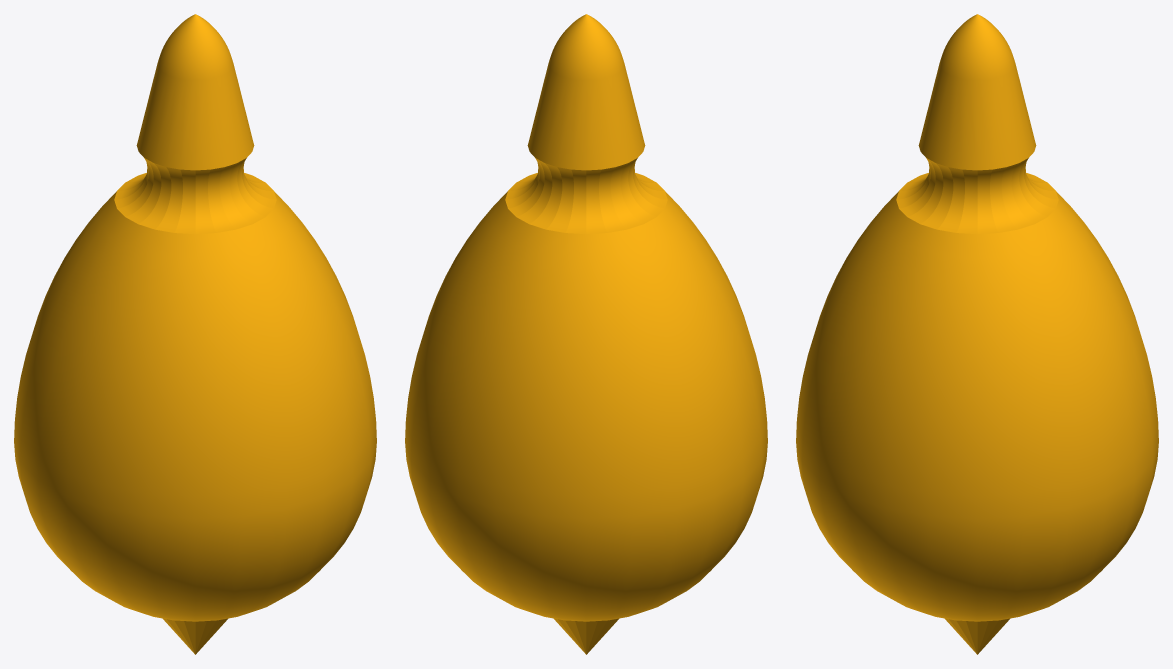
File: building-3a.dae
3 renders of one model, left to right at view 1: azimuth 30°, elevation 25°; view 2: azimuth 150°, elevation 25°; view 3: azimuth 270°, elevation 25°, orthographic.
Visible parts, largest first — view 1: group_3, group_4, group_1, group_2; view 2: group_3, group_4, group_1, group_2; view 3: group_3, group_4, group_1, group_2.
Part boxes in pixels (<box>): group_3: <box>14,191,376,621</box>; group_4: <box>136,14,254,170</box>; group_1: <box>114,158,276,234</box>; group_2: <box>162,618,228,654</box>; group_3: <box>405,191,767,621</box>; group_4: <box>527,14,645,170</box>; group_1: <box>505,158,667,234</box>; group_2: <box>553,618,619,654</box>; group_3: <box>796,191,1158,621</box>; group_4: <box>918,14,1036,170</box>; group_1: <box>896,158,1058,234</box>; group_2: <box>944,618,1010,654</box>.
Size of the model in its own units: 155 by 155 by 303.
